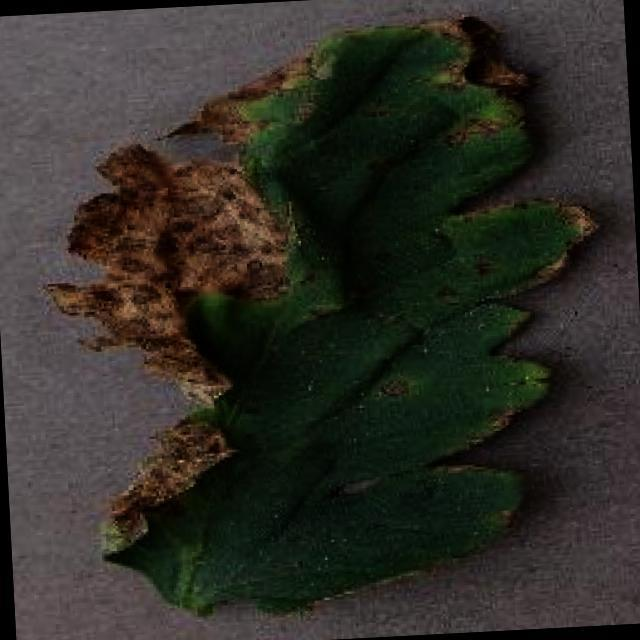Tomato bacterial spot leaf: (20, 0, 626, 635)
